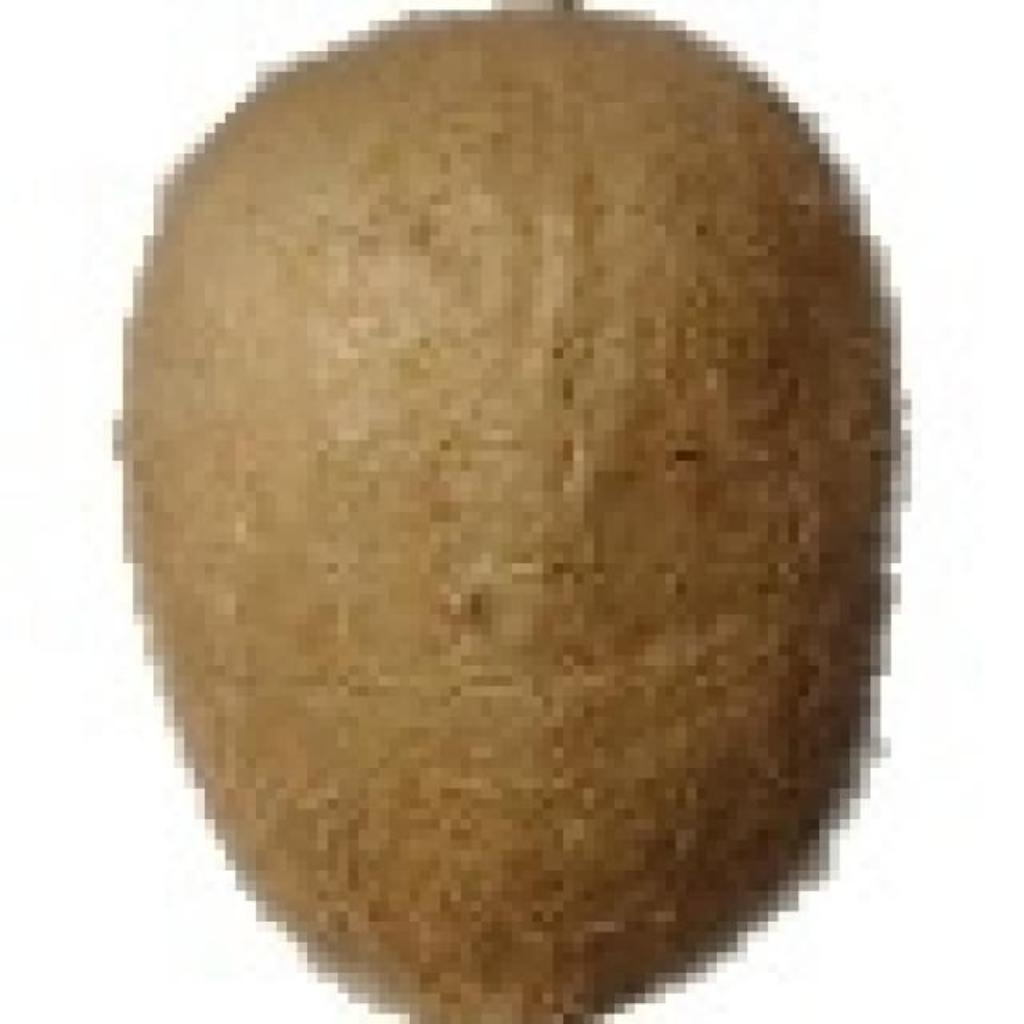kiwi: (113, 10, 870, 1004)
